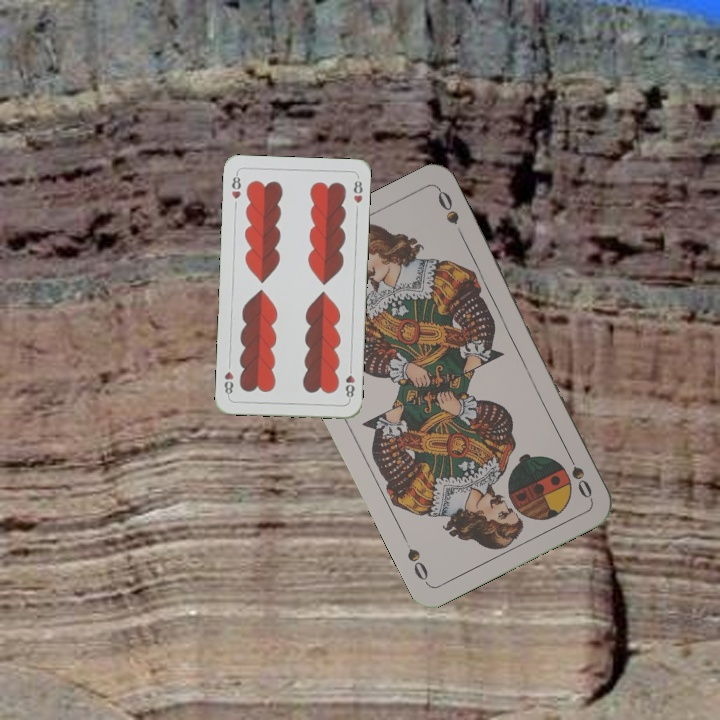H8: (342, 362, 357, 403), (228, 169, 243, 201)
SO: (561, 446, 595, 502)
